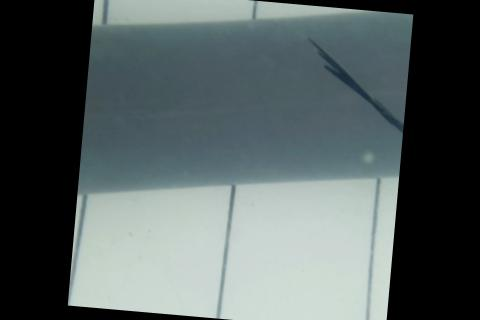keretakan: (295, 35, 411, 136)
